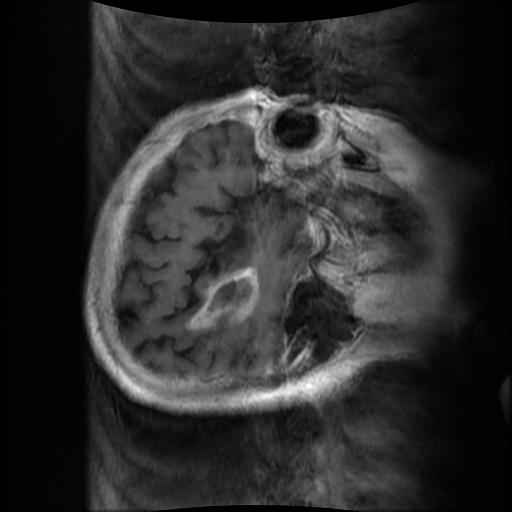glioma: (183, 266, 259, 332)
